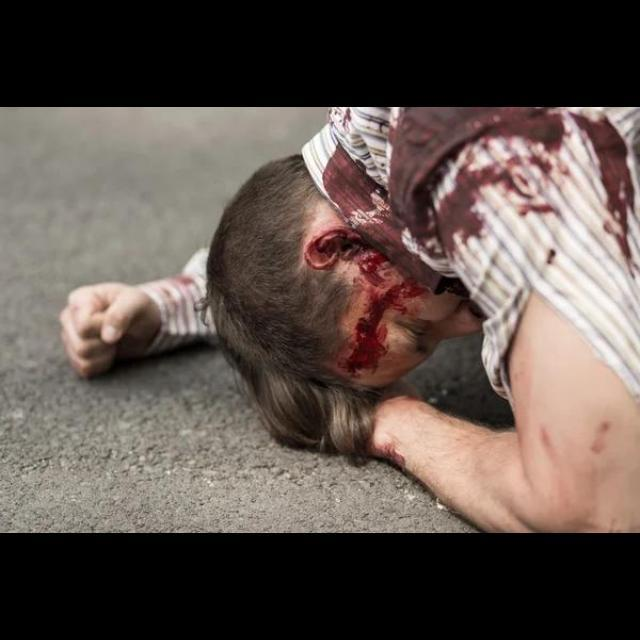blood: (322, 108, 637, 293), (315, 218, 428, 377)
